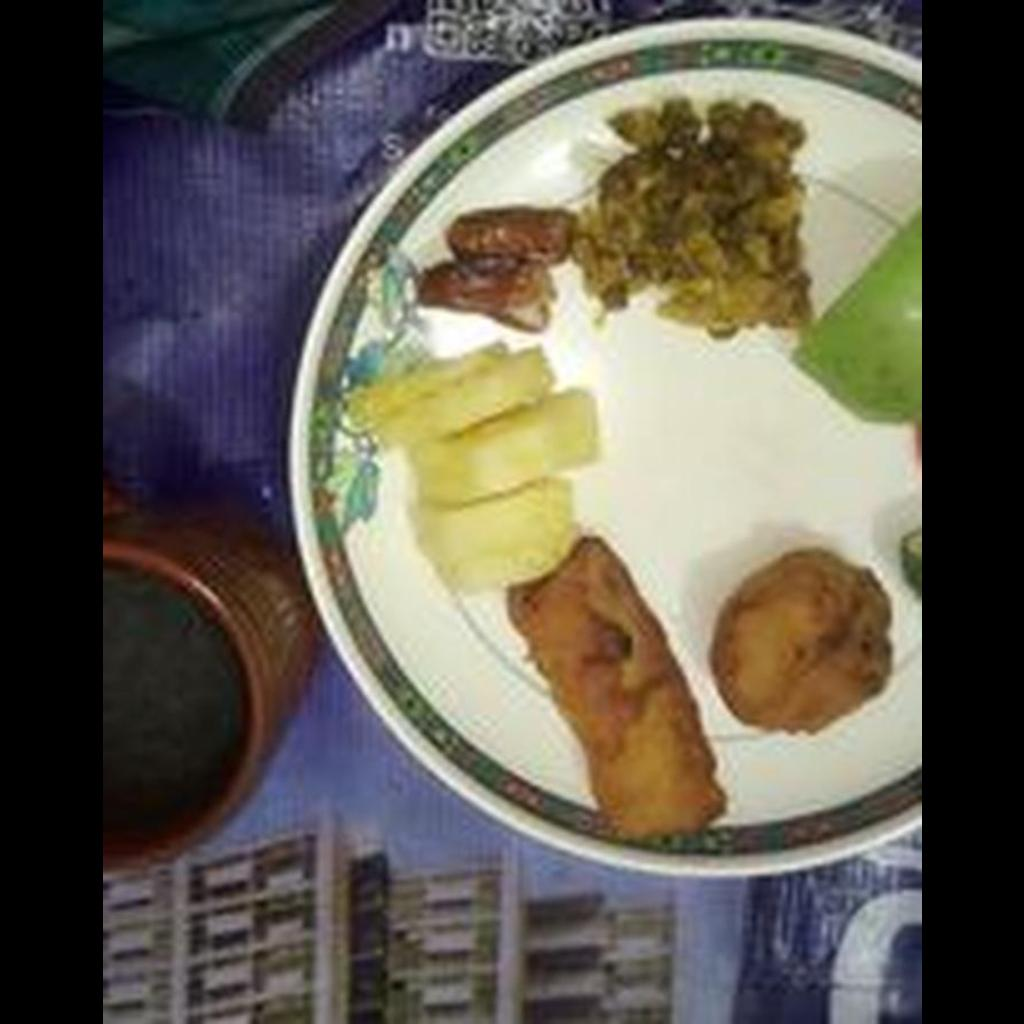beguni: (507, 543, 726, 839)
chola: (586, 105, 803, 329)
chop-alu: (705, 551, 890, 736)
dates: (420, 205, 573, 333)
guava: (794, 208, 920, 421)
pineapple: (356, 345, 592, 589)
